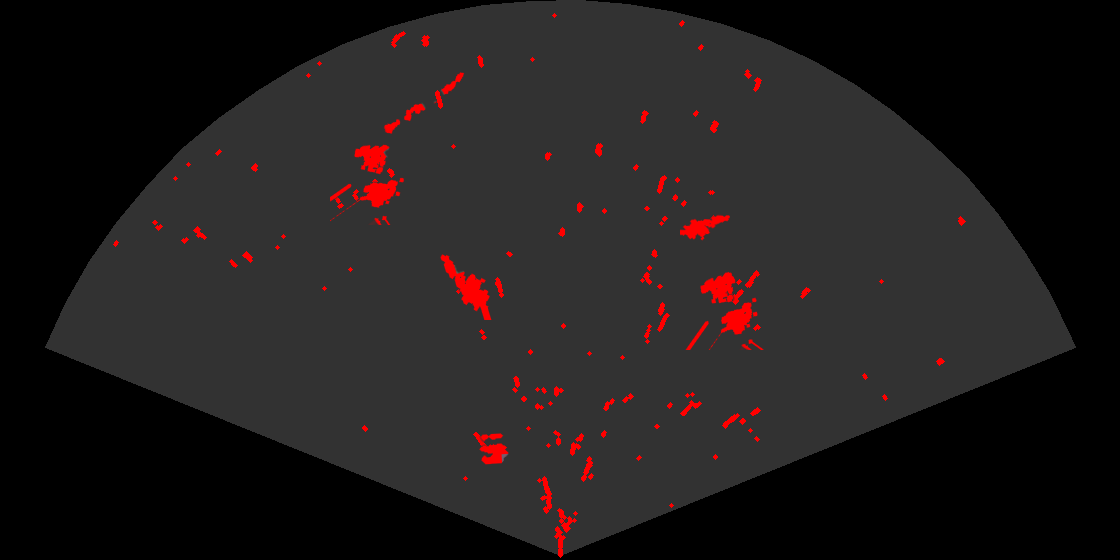ball: (478, 432, 510, 466)
cage: (684, 270, 765, 350), (330, 143, 406, 225)
chain: (382, 71, 466, 135)
frogman: (439, 253, 493, 320), (680, 213, 730, 242)
